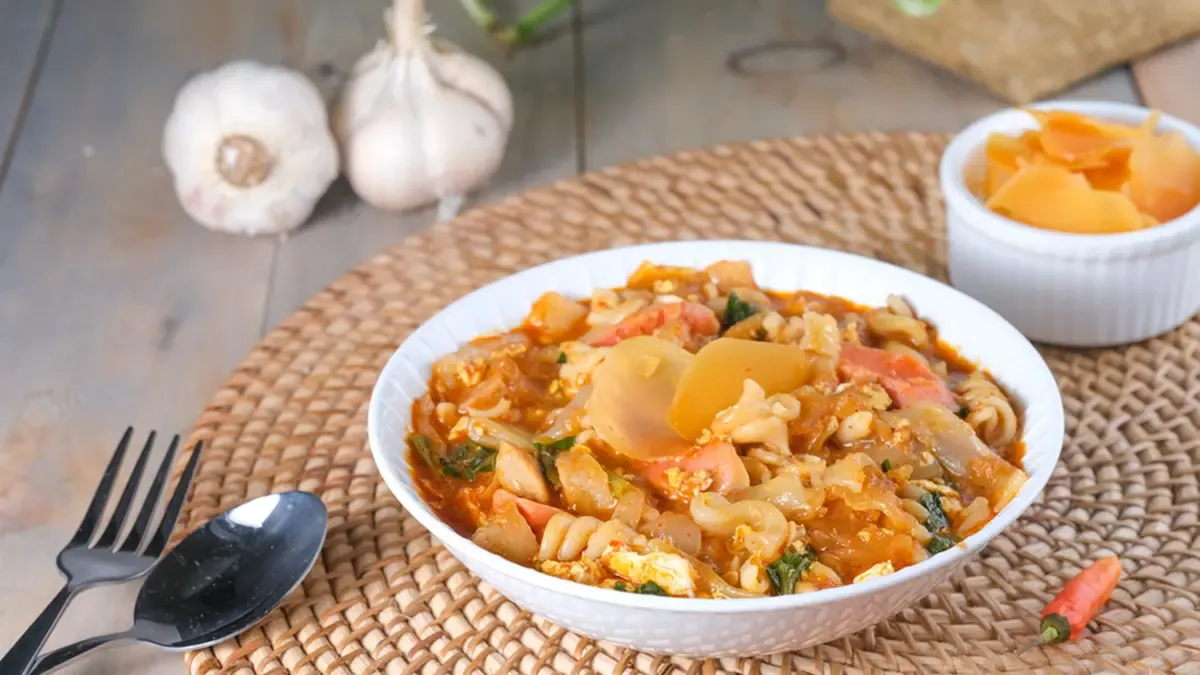seblak: (400, 261, 1026, 604)
